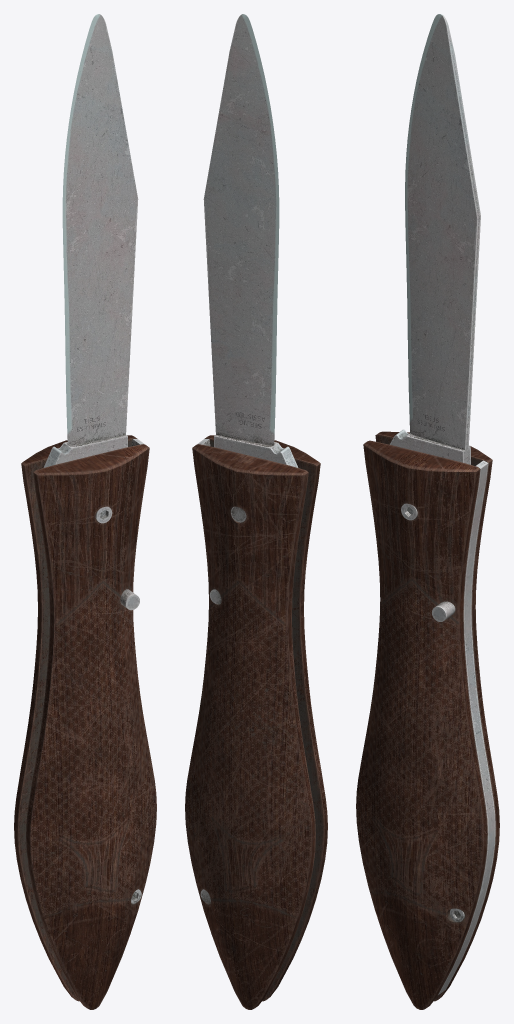
Rendered from natural-knife-source.glb.
3 views of the same model, side by side, from view 1: azimuth 30°, elevation 25°; view 2: azimuth 150°, elevation 25°; view 3: azimuth 330°, elevation 25° (orthographic).
Visible parts, largest first — view 1: natural-knife-source runtime mesh; view 2: natural-knife-source runtime mesh; view 3: natural-knife-source runtime mesh.
Part boxes in pixels (box(x1,y1,x2,y2)): natural-knife-source runtime mesh: box(14, 14, 156, 1009); natural-knife-source runtime mesh: box(185, 14, 327, 1009); natural-knife-source runtime mesh: box(356, 14, 499, 1009).
Bounding box in the file's own units: 0.0431 × 0.32 × 0.0241.
1 material, 1 textured.
